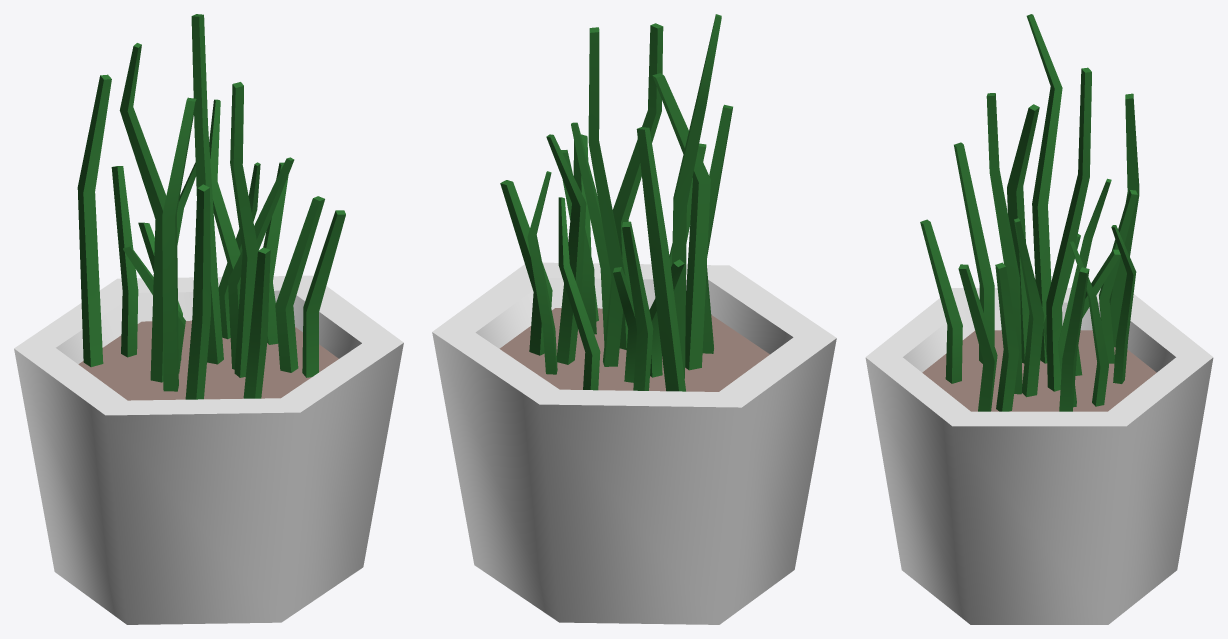
The model's file is plant_succulent.glb.
3 renders of one model, left to right at view 1: azimuth 30°, elevation 25°; view 2: azimuth 150°, elevation 25°; view 3: azimuth 270°, elevation 25°, orthographic. The views are drawn at different scales.
Parts seen in each view (by area): view 1: flower.037; view 2: flower.037; view 3: flower.037.
Boxes of the visible parts, left/top/right/bottom form: flower.037: left=14, top=14, right=403, bottom=624; flower.037: left=432, top=14, right=836, bottom=624; flower.037: left=865, top=14, right=1213, bottom=624.
Bounding box in the file's own units: 0.1154 × 0.2024 × 0.1226.
1 material, 1 textured.
